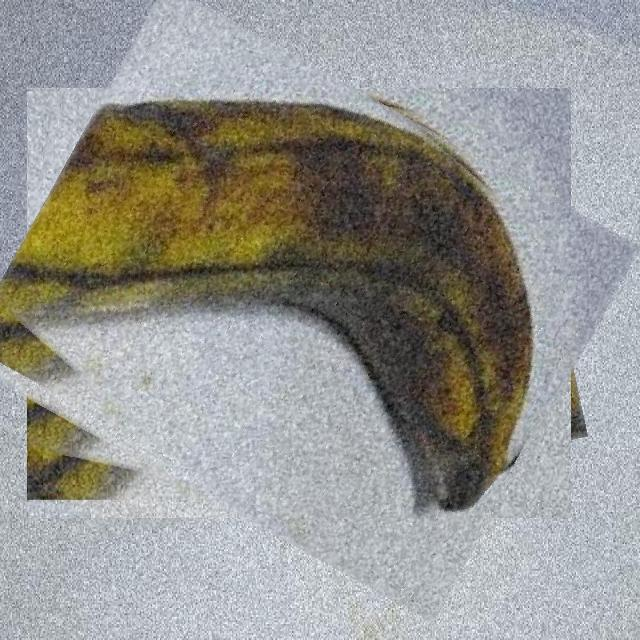Execivamente Madura: (0, 35, 606, 570)
